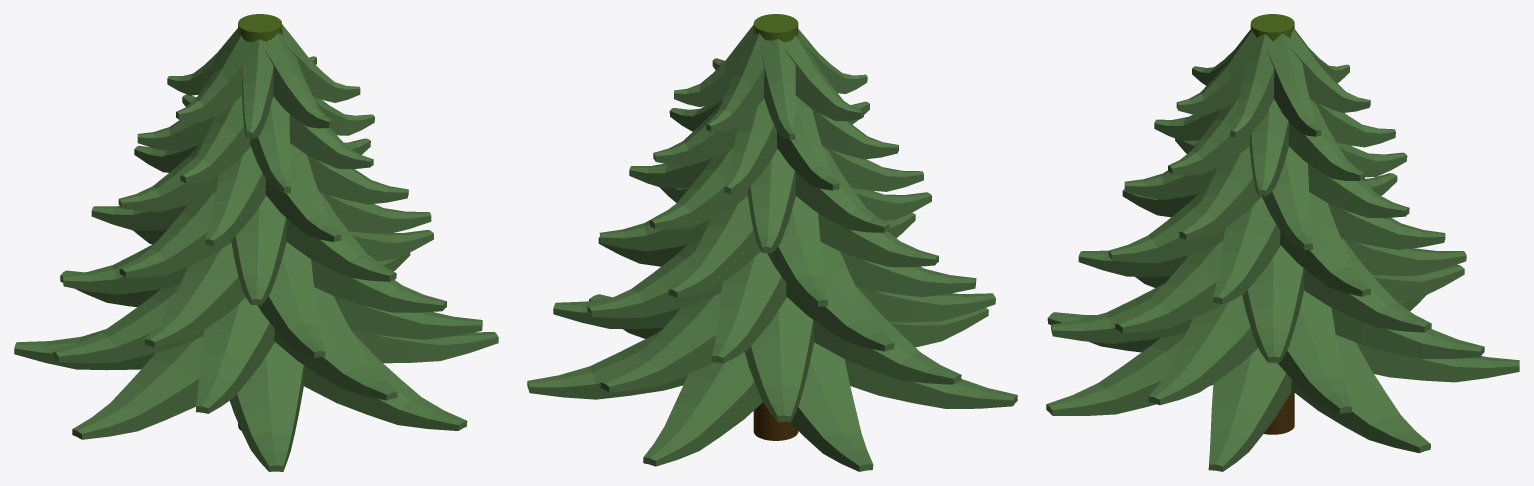
The model's file is Fir.glb.
The picture shows the model from 3 angles, left to right: view 1: azimuth 30°, elevation 25°; view 2: azimuth 150°, elevation 25°; view 3: azimuth 270°, elevation 25°; orthographic projection.
Parts seen in each view (by area): view 1: Fir; view 2: Fir; view 3: Fir.
Boxes of the visible parts, x1=… form: Fir: x1=14, y1=14, x2=498, y2=471; Fir: x1=527, y1=14, x2=1017, y2=471; Fir: x1=1046, y1=14, x2=1519, y2=471.
Bounding box in the file's own units: 4.07 × 3.72 × 3.97.
